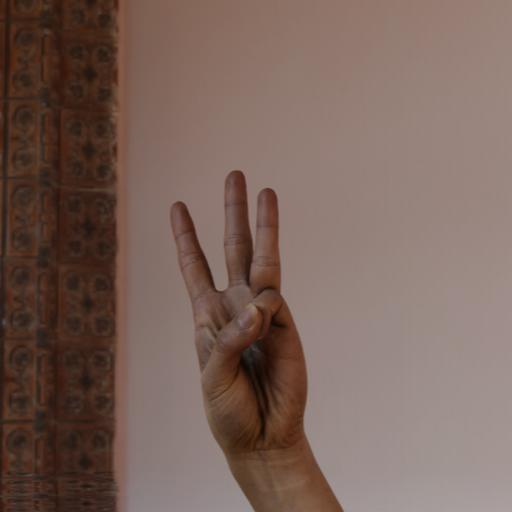W: (154, 166, 346, 457)
